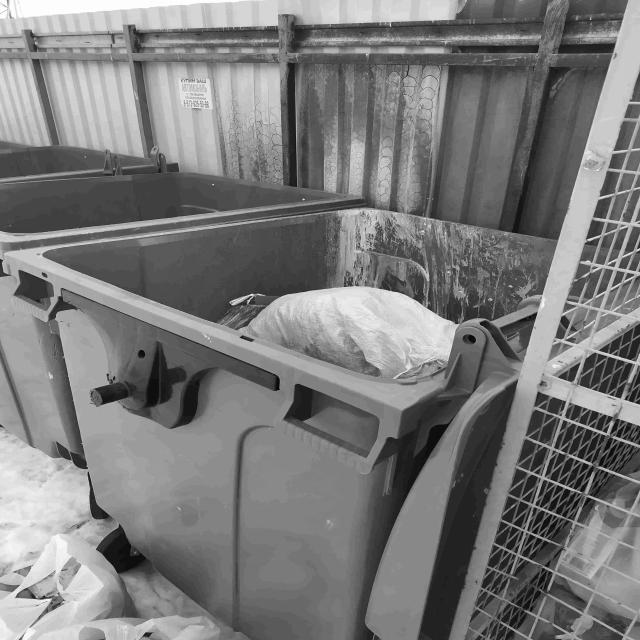Trashcan: (2, 196, 640, 640), (0, 168, 383, 472)
